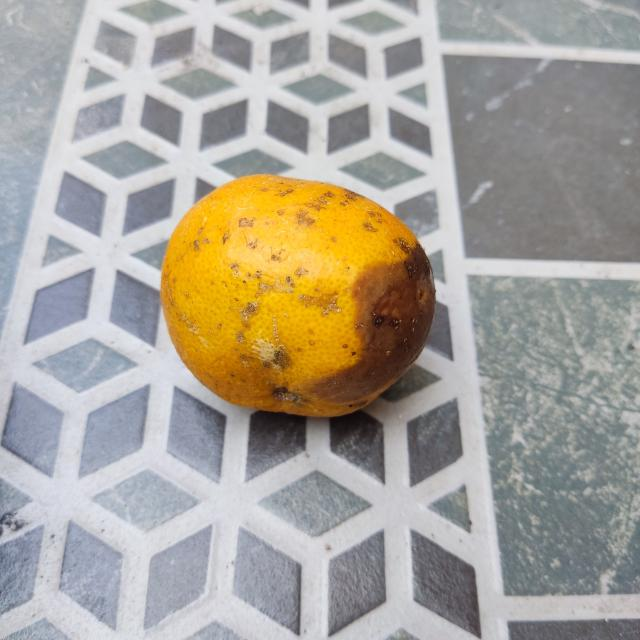orange: (156, 173, 437, 417)
